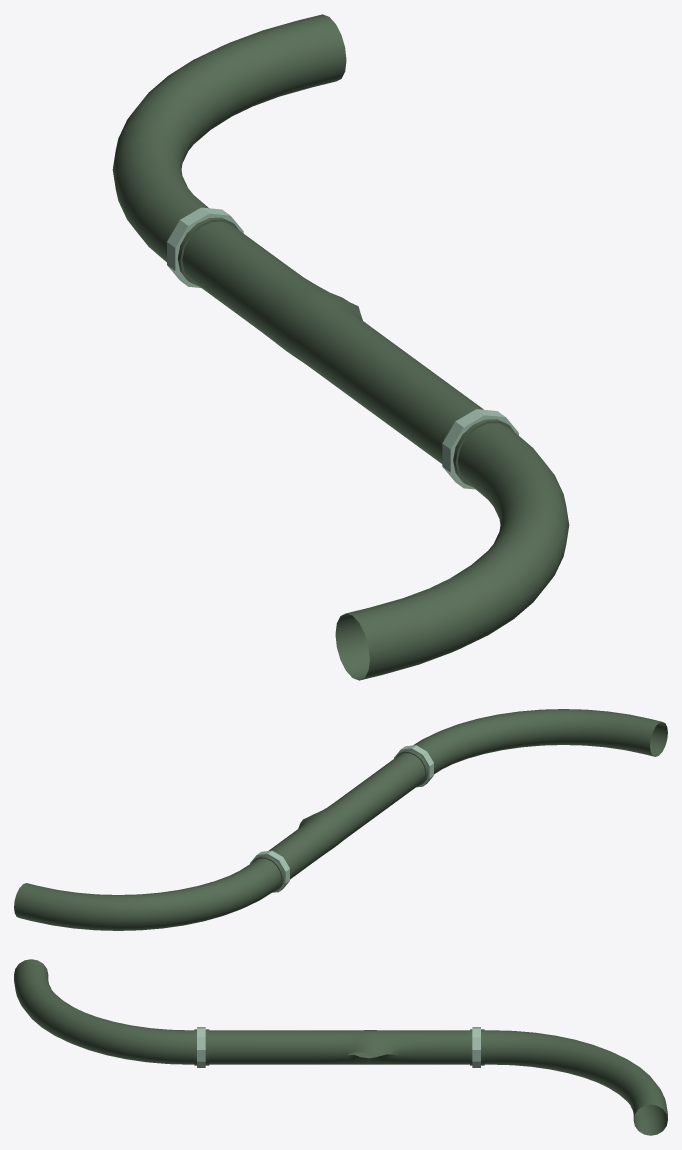
File: PipeComplexLarge_A1_17.fbx
The picture shows the model from 3 angles, top to bottom: view 1: azimuth 30°, elevation 25°; view 2: azimuth 150°, elevation 25°; view 3: azimuth 270°, elevation 25°; orthographic projection. The views are drawn at different scales.
Parts seen in each view (by area): view 1: PipeComplexLarge_A1_17.001; view 2: PipeComplexLarge_A1_17.001; view 3: PipeComplexLarge_A1_17.001.
Part boxes in pixels (left/top/right/bottom): PipeComplexLarge_A1_17.001: left=112, top=14, right=569, bottom=680; PipeComplexLarge_A1_17.001: left=14, top=709, right=667, bottom=930; PipeComplexLarge_A1_17.001: left=14, top=959, right=667, bottom=1135.
Size of the model in its own units: 2 by 0.2411 by 3.8.
